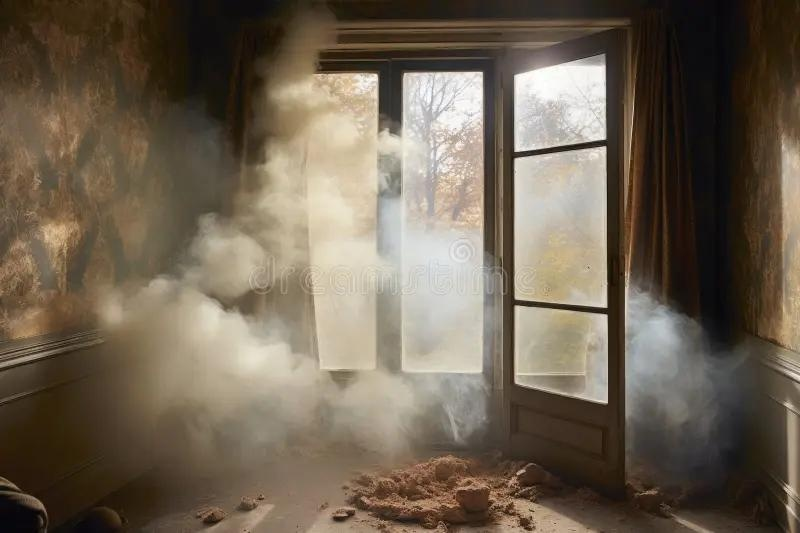smoke: (80, 145, 506, 462)
